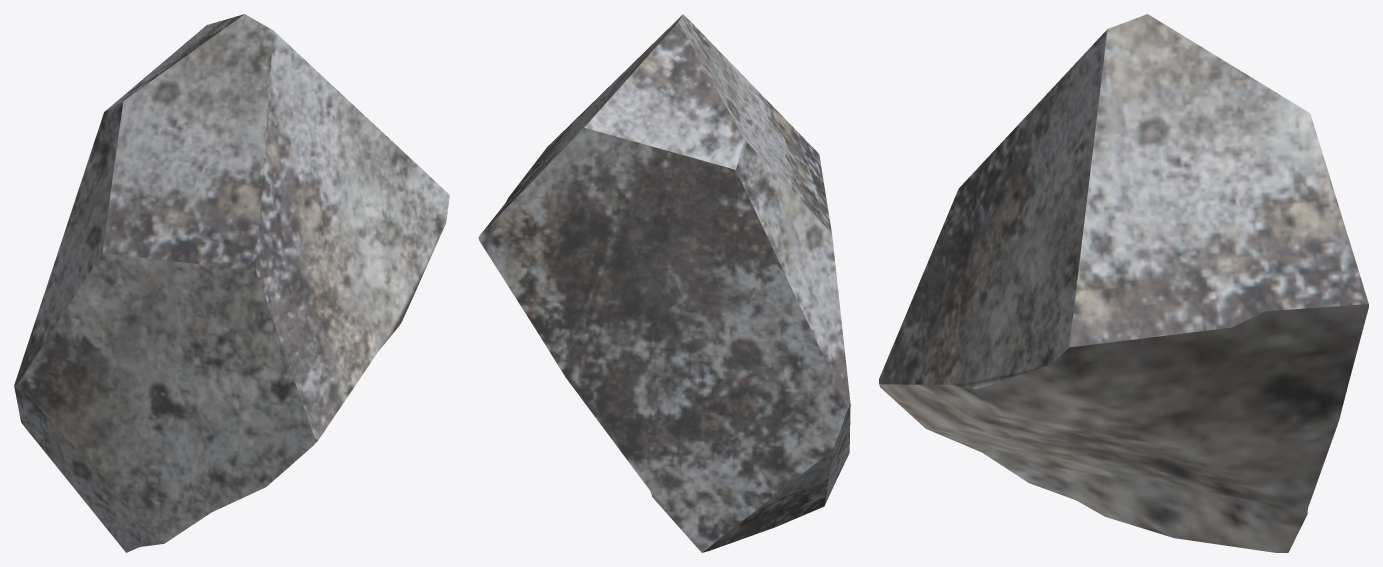
Rendered from Asteroid_Large_001_02_001_03_028.fbx.
3 renders of one model, left to right at view 1: azimuth 30°, elevation 25°; view 2: azimuth 150°, elevation 25°; view 3: azimuth 270°, elevation 25°, orthographic. The views are drawn at different scales.
Parts seen in each view (by area): view 1: Asteroid_Large_001_02_001_03_028; view 2: Asteroid_Large_001_02_001_03_028; view 3: Asteroid_Large_001_02_001_03_028.
Boxes of the visible parts, x1,y1,x2,y2 form: Asteroid_Large_001_02_001_03_028: (14, 14, 449, 552); Asteroid_Large_001_02_001_03_028: (478, 14, 850, 552); Asteroid_Large_001_02_001_03_028: (879, 14, 1368, 552).
Size of the model in its own units: 7.47 by 9.45 by 7.12.
